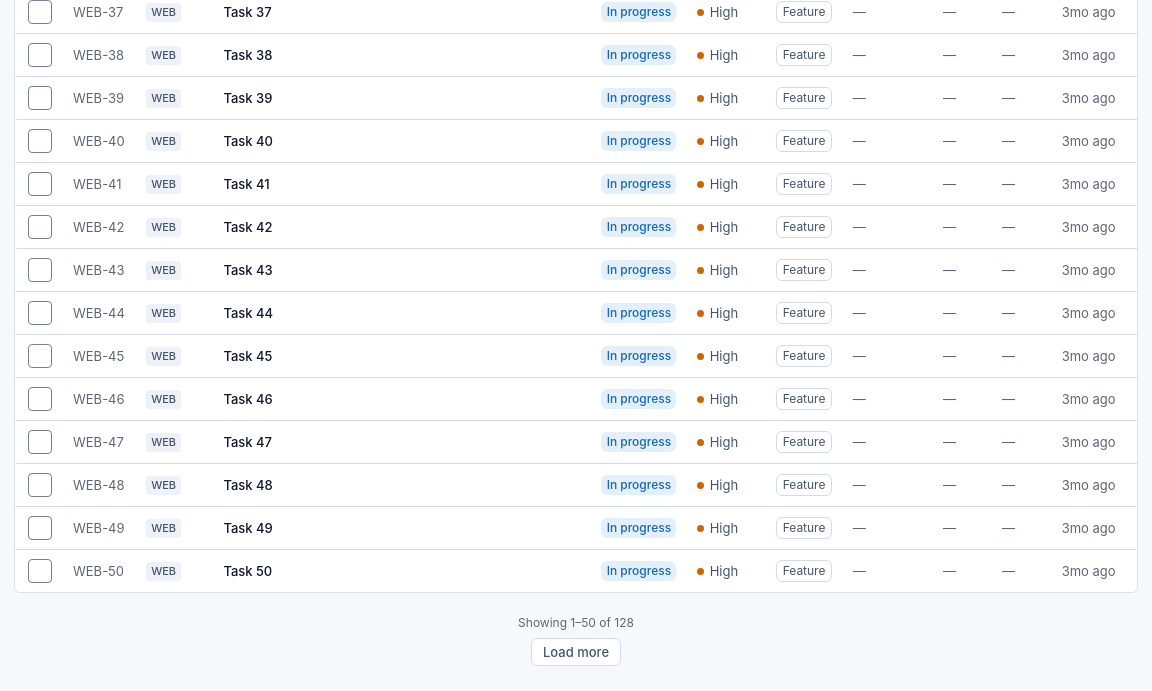
Test: ListView pagination › appends the next page rather than replacing the current one
(page scrolled)
Expected: the text "Showing 1–50 of 128" is shown, [518,614,634,631]
Click the button "Load more" at [576, 652], box [532,638,620,666]
(page scrolled)
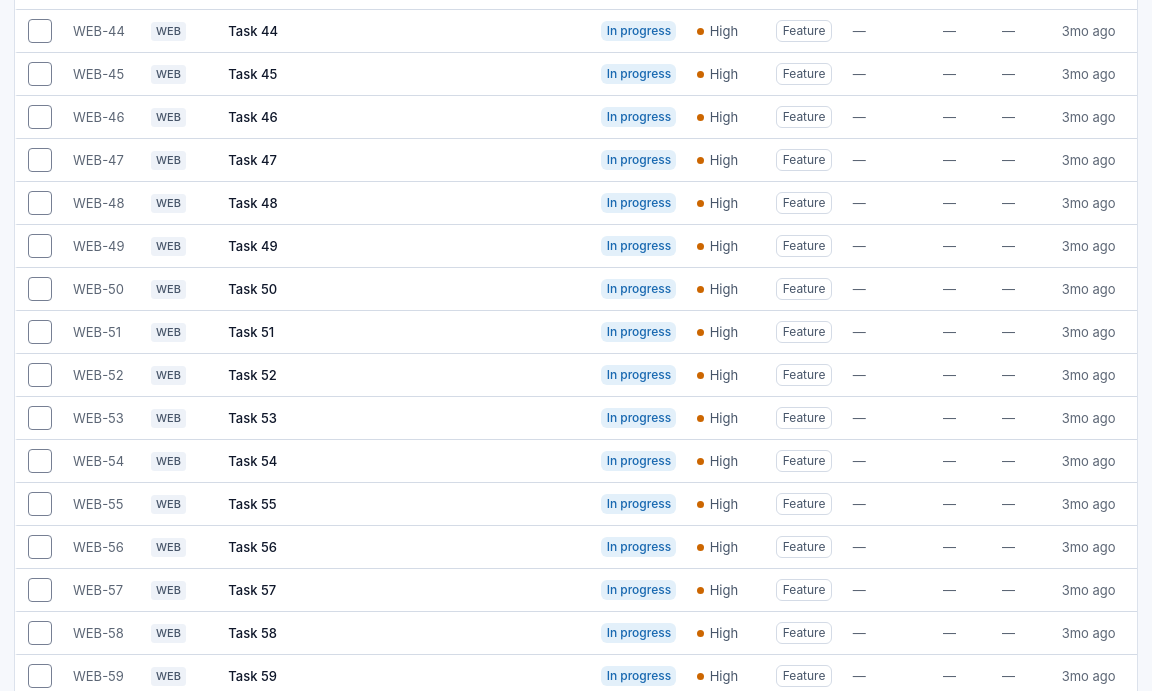
Expected: the text "Task 51" is shown, [228,323,274,341]
